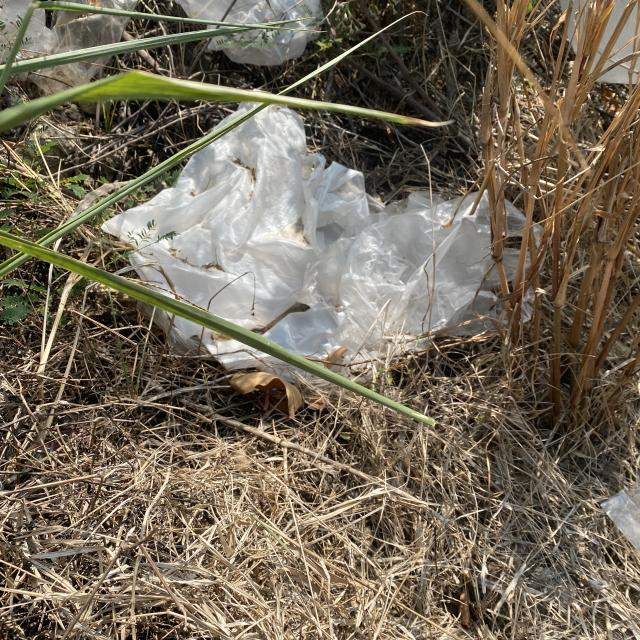Single-layer Plastic: (102, 105, 501, 362)
